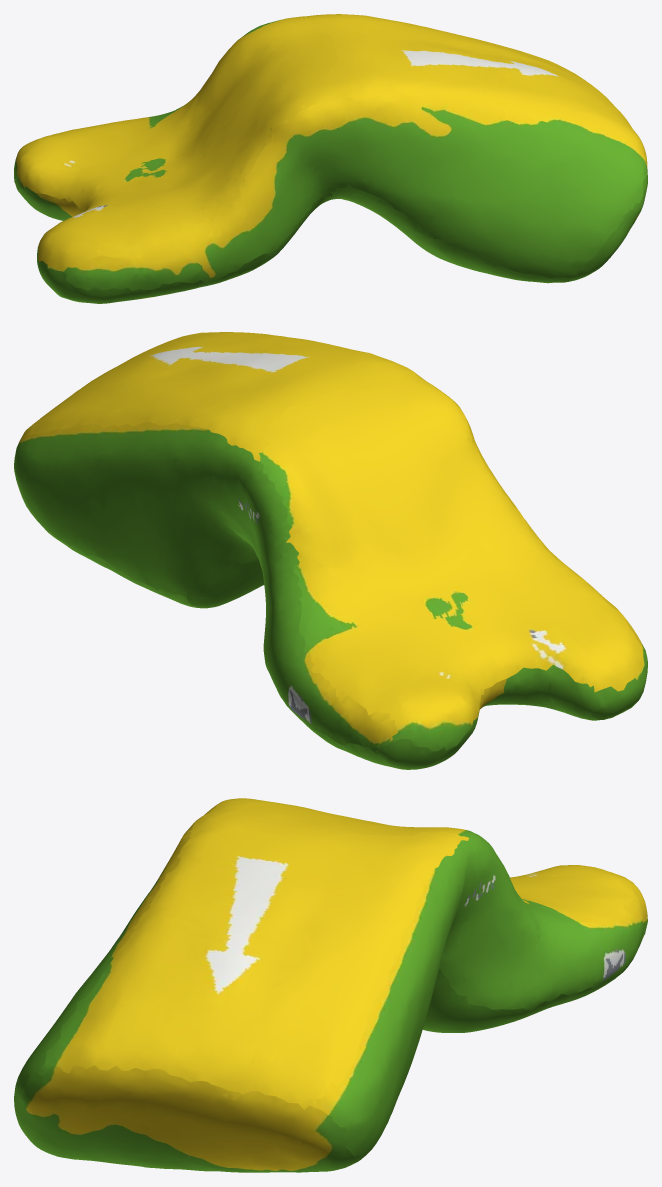
Rendered from stepslide.glb.
3 renders of one model, top to bottom at view 1: azimuth 30°, elevation 25°; view 2: azimuth 150°, elevation 25°; view 3: azimuth 270°, elevation 25°, orthographic. The views are drawn at different scales.
Visible parts, largest first — view 1: geometry_0; view 2: geometry_0; view 3: geometry_0.
Part boxes in pixels (x1,y1,x2,y2): geometry_0: (14,14,647,303); geometry_0: (14,332,647,769); geometry_0: (14,798,647,1172).
Size of the model in its own units: 0.8889 by 0.3056 by 0.7176.
1 material, 1 textured.
